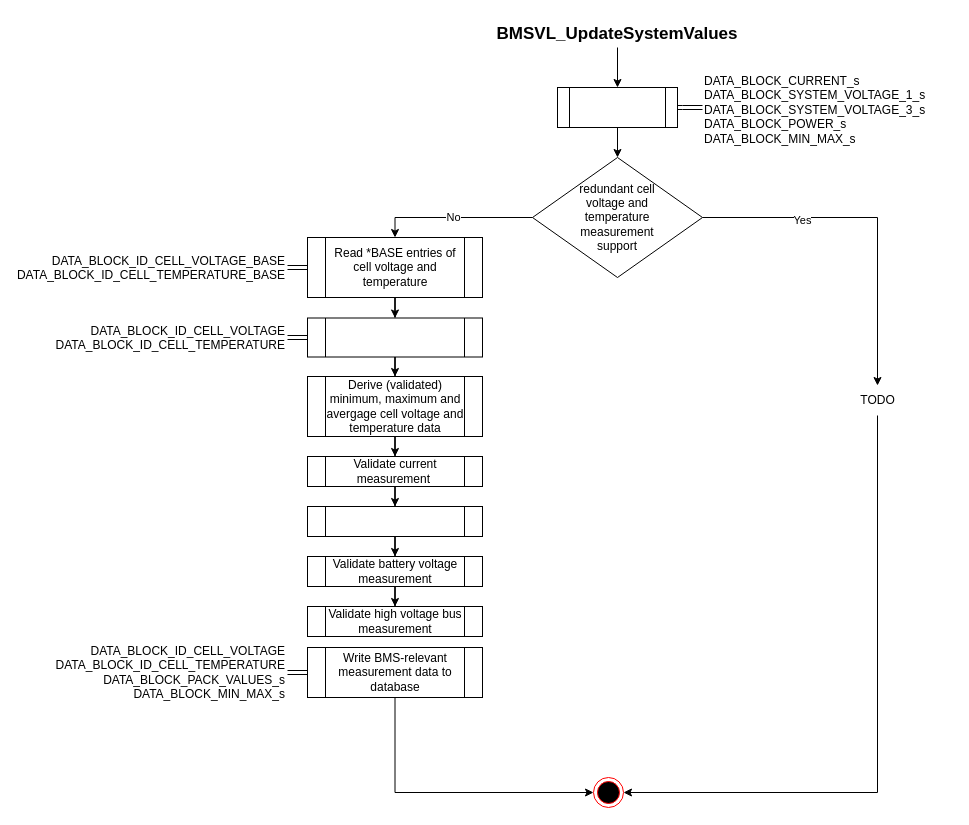
The diagram is 969 pixels wide and 825 high, and some of its shapes have lost their labels. Here are the shapes that lost their labels. From the top down, the centre of each, then its label:
At (617,107): "Read Database entries".
At (394,337): "Copy from from *Base-entry to validated entry".
At (394,521): "Validate individual string voltage measurement".
